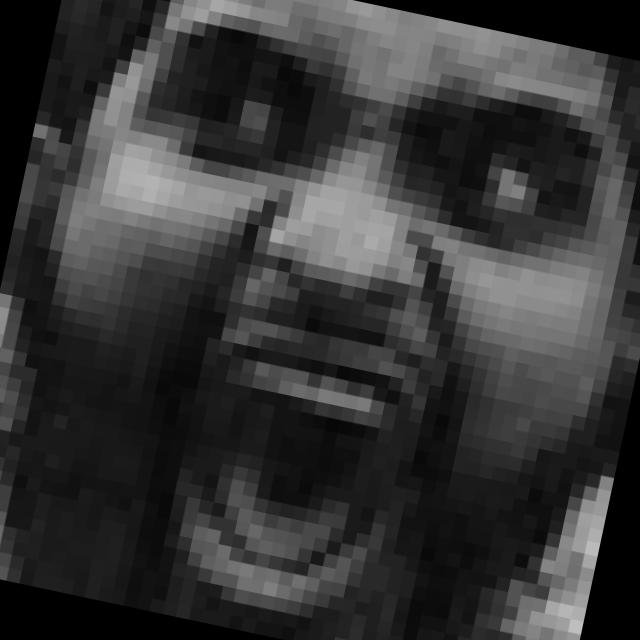angry: (49, 9, 610, 640)
